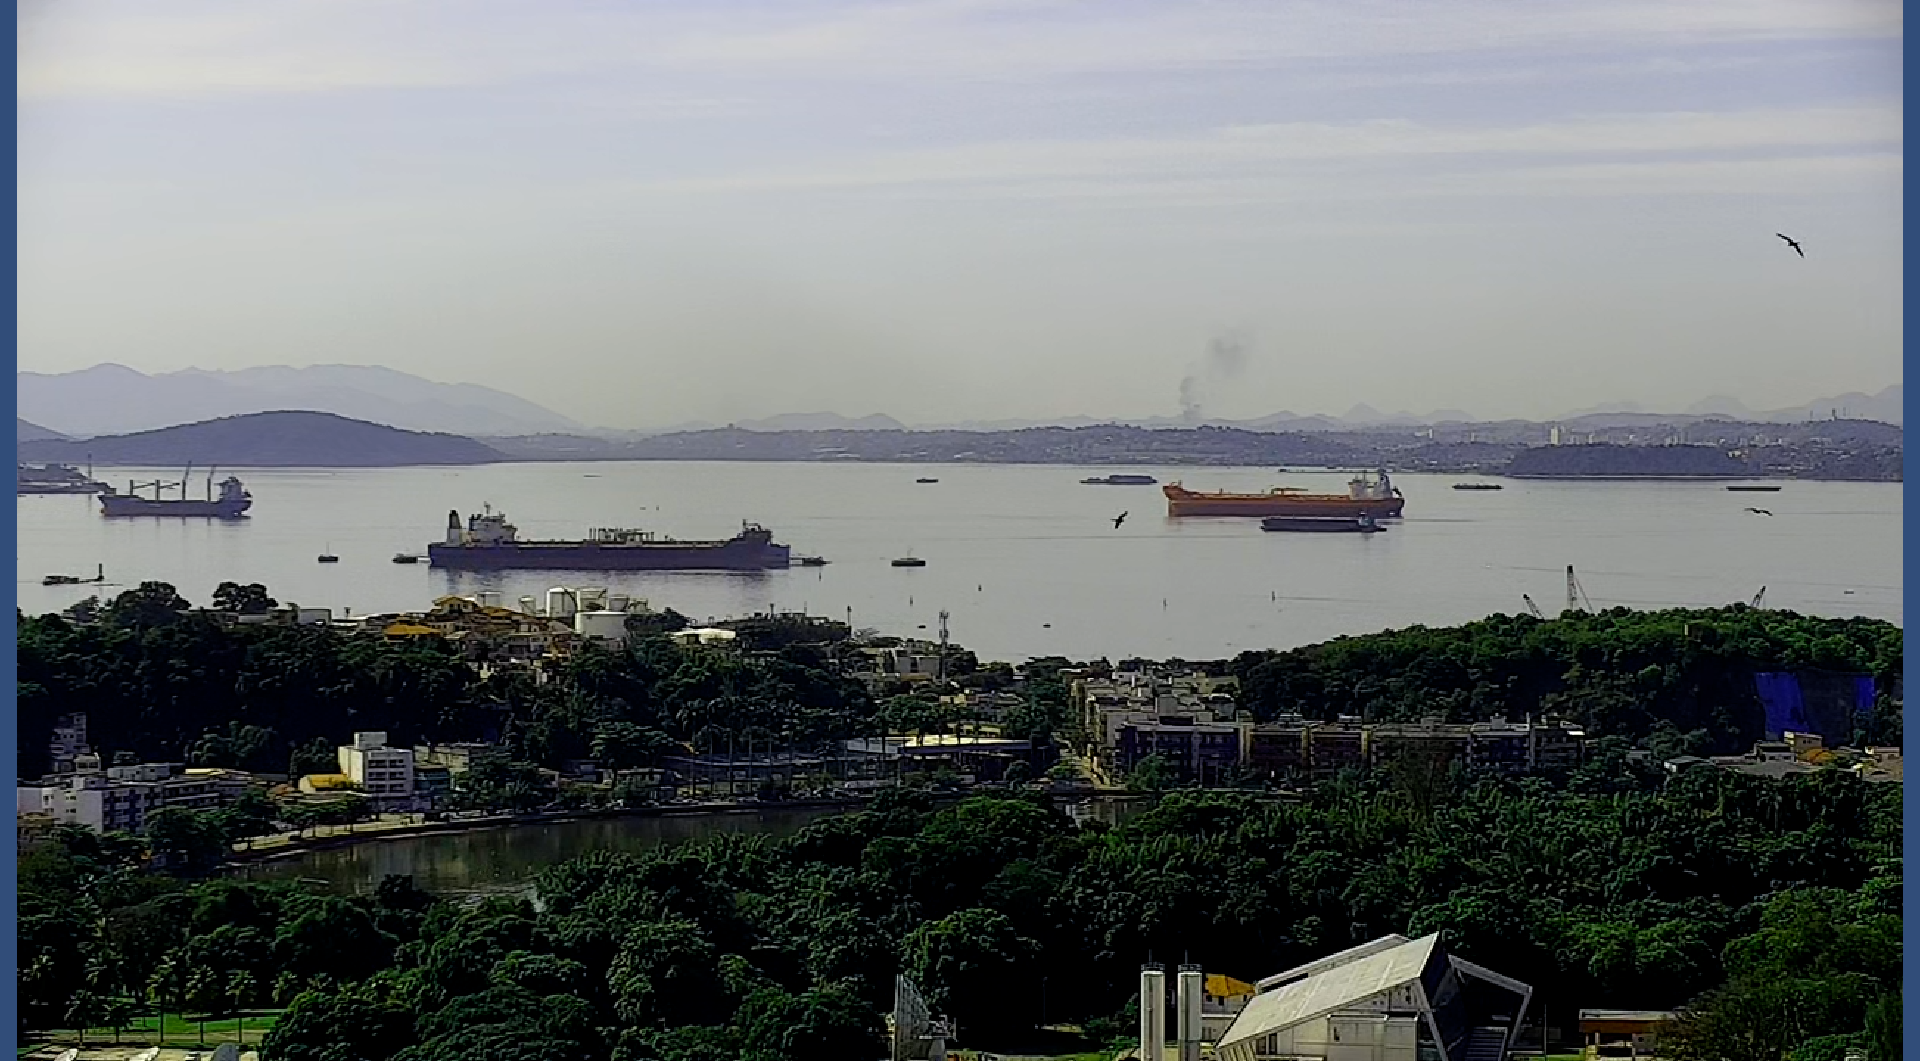Ship2: (427, 503, 778, 575), (1159, 464, 1412, 521), (97, 469, 256, 520)
Ship8: (1259, 506, 1388, 534)
